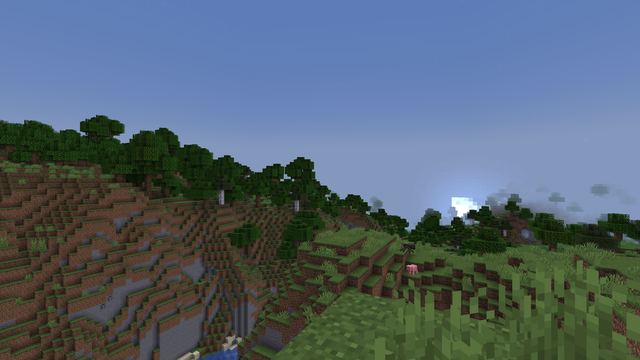araignees: (399, 241, 413, 252)
cochons: (407, 263, 416, 274)
slimes: (325, 247, 330, 253)
